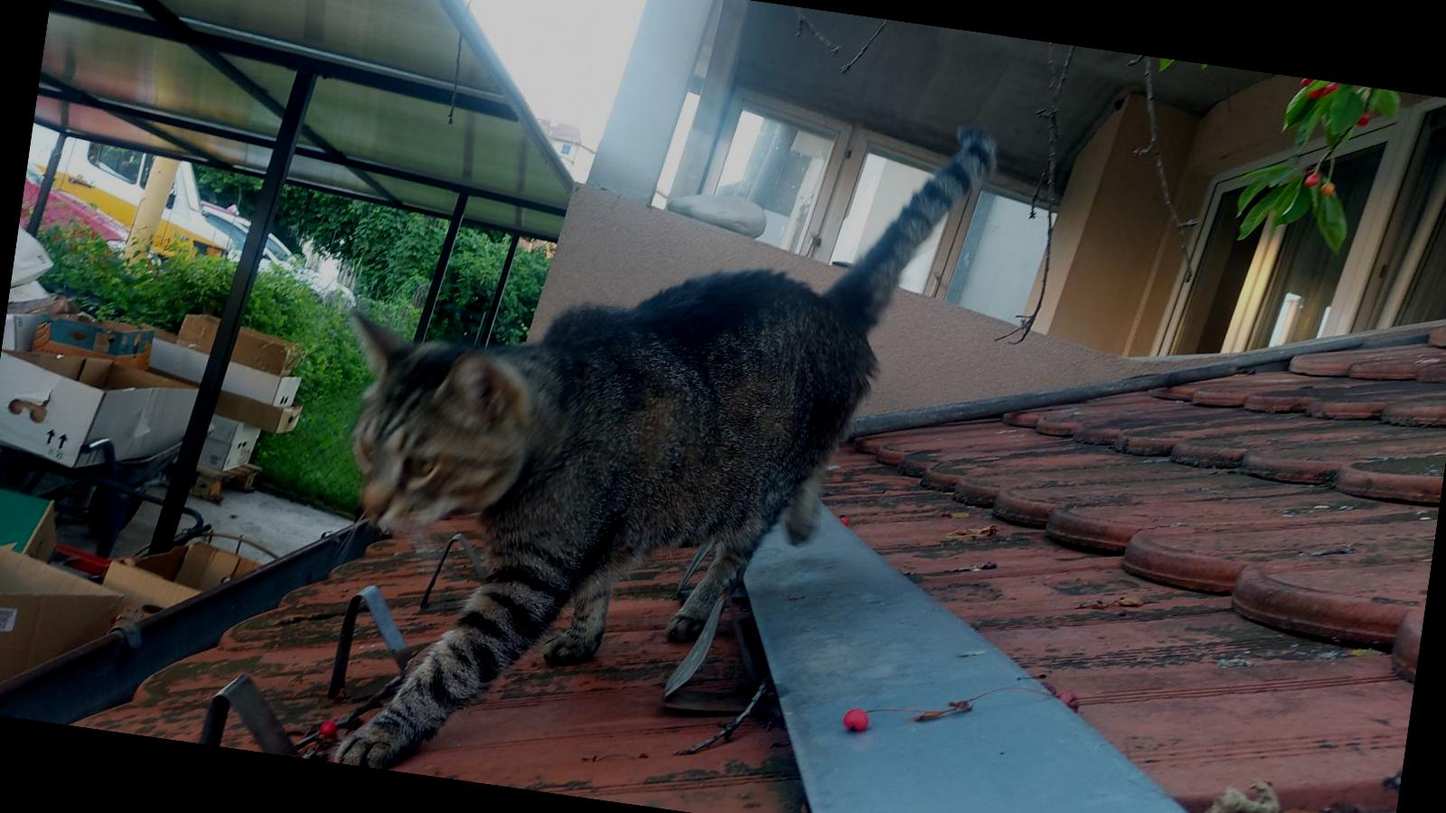macka: (286, 44, 1002, 813)
